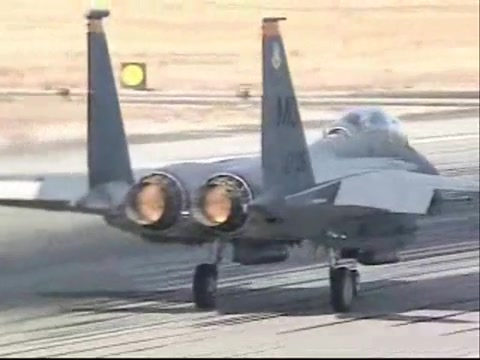aeroplane: (1, 9, 480, 313)
